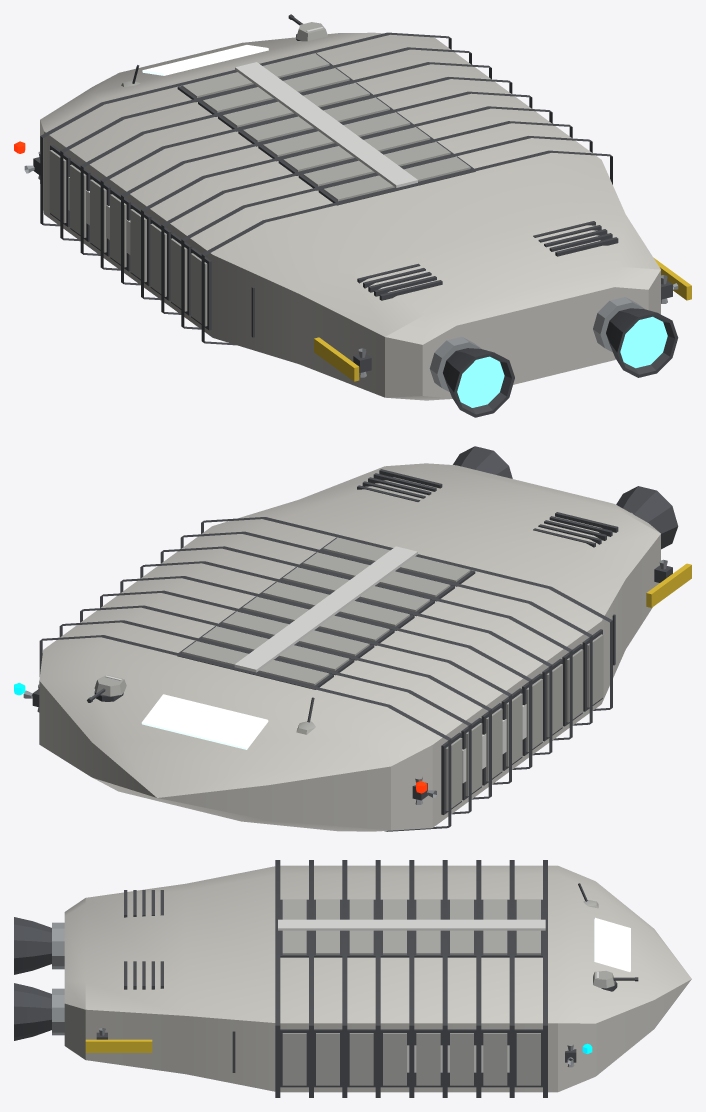
File: hauler.glb
3 views of the same model, one above another, from view 1: azimuth 30°, elevation 25°; view 2: azimuth 150°, elevation 25°; view 3: azimuth 270°, elevation 25° (orthographic). The views are drawn at different scales.
Parts seen in each view (by area): view 1: Hull; view 2: Hull, Turret_3; view 3: Hull, Turret_3.
Boxes of the visible parts, x1=… form: Hull: x1=14, y1=32, x2=691, y2=417; Hull: x1=14, y1=446, x2=691, y2=831; Turret_3: x1=87, y1=675, x2=126, y2=702; Hull: x1=14, y1=860, x2=691, y2=1097; Turret_3: x1=593, y1=971, x2=638, y2=991.
Bounding box in the file's own units: 1.16 × 0.3783 × 2.
